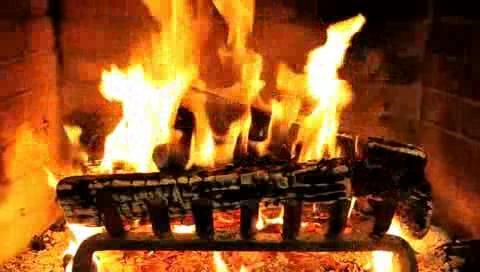fire: (83, 2, 383, 165)
